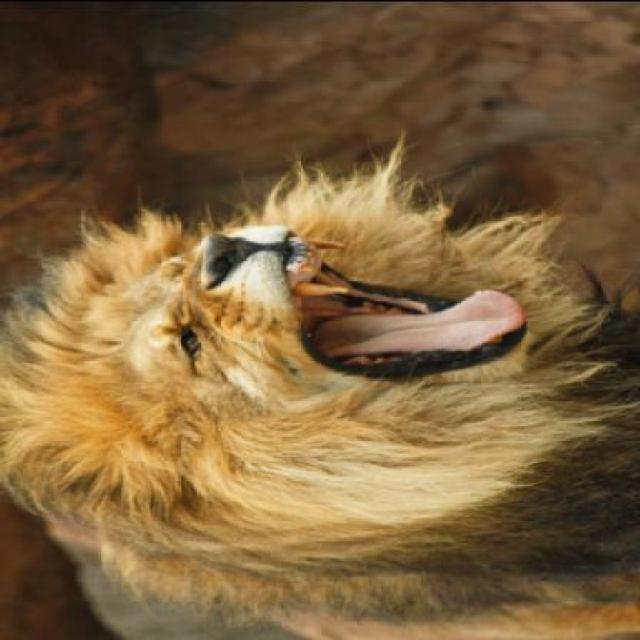Lion: (7, 163, 638, 639)
